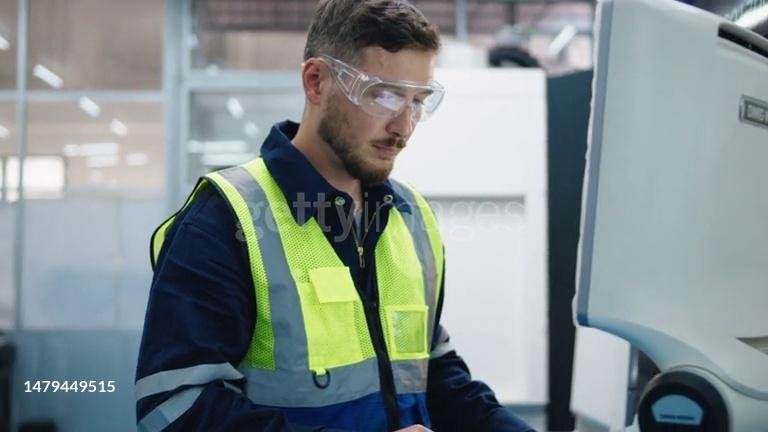person: (137, 1, 534, 432)
